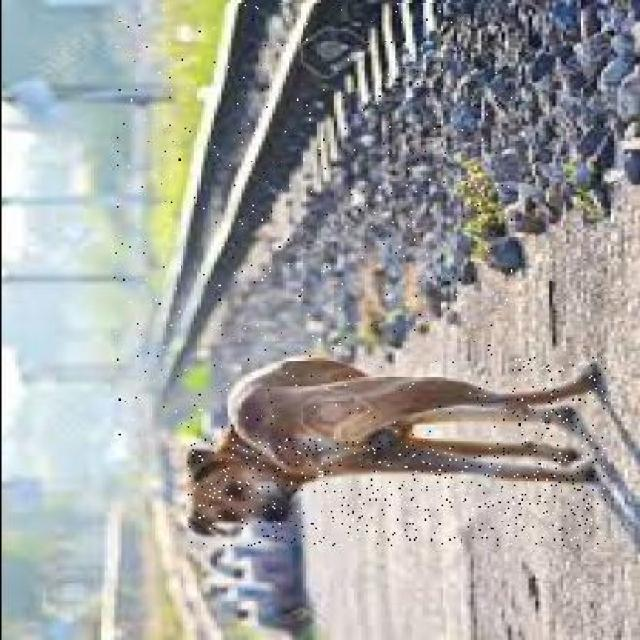rail: (115, 4, 512, 439)
